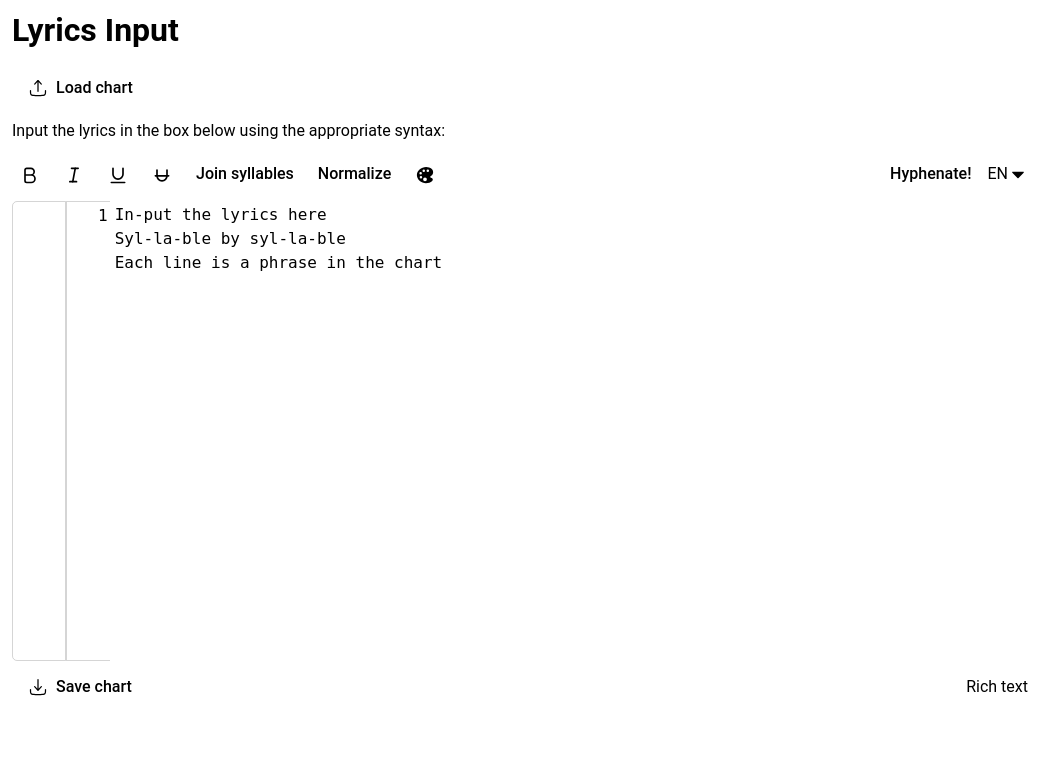
Scenario: LyricsInputView › detects the color of the selection and pre-fills the picker
Click the button "Load chart": (80, 88) [12,70,149,106]
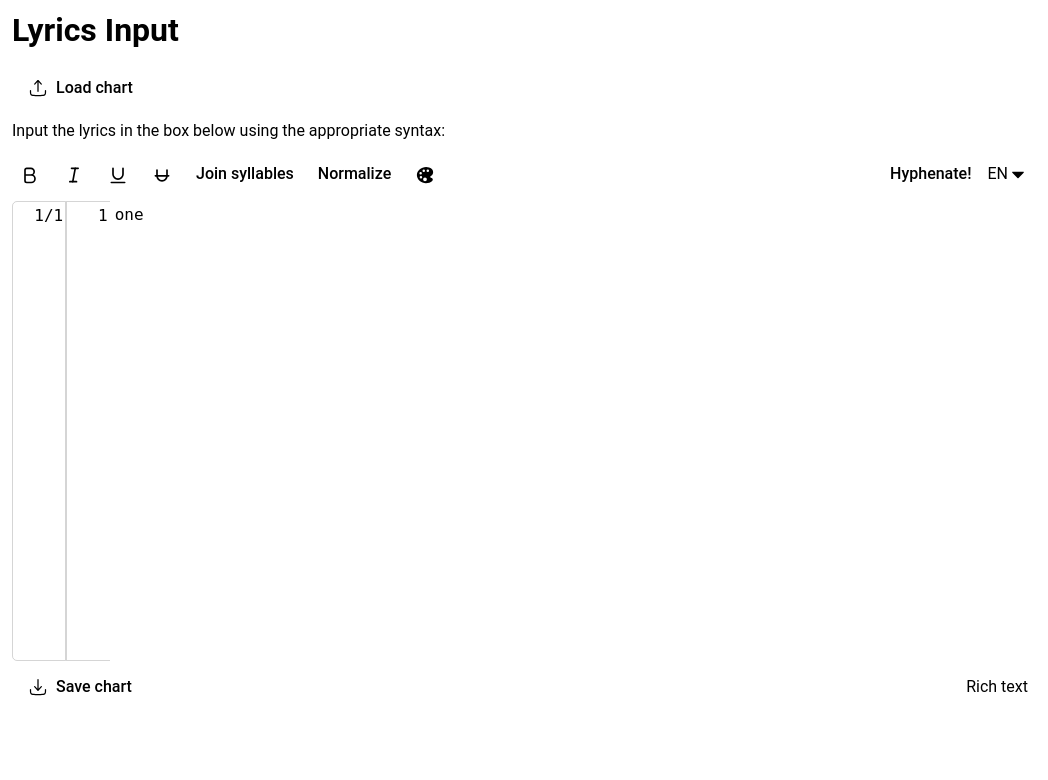
Replace the text in the text box with class "lyrics" with "<color=#8bd6d4>asd</color>": (573, 431) [110,201,1036,661]
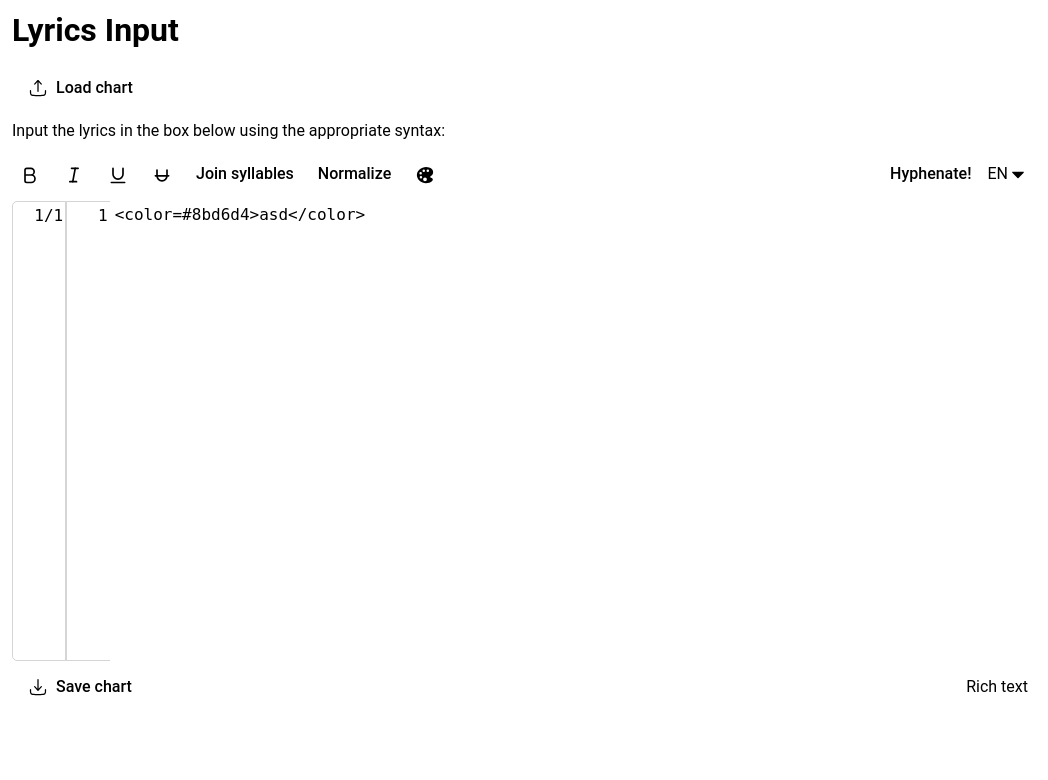
Click the button named "Apply a color": (425, 175) [407,157,443,193]
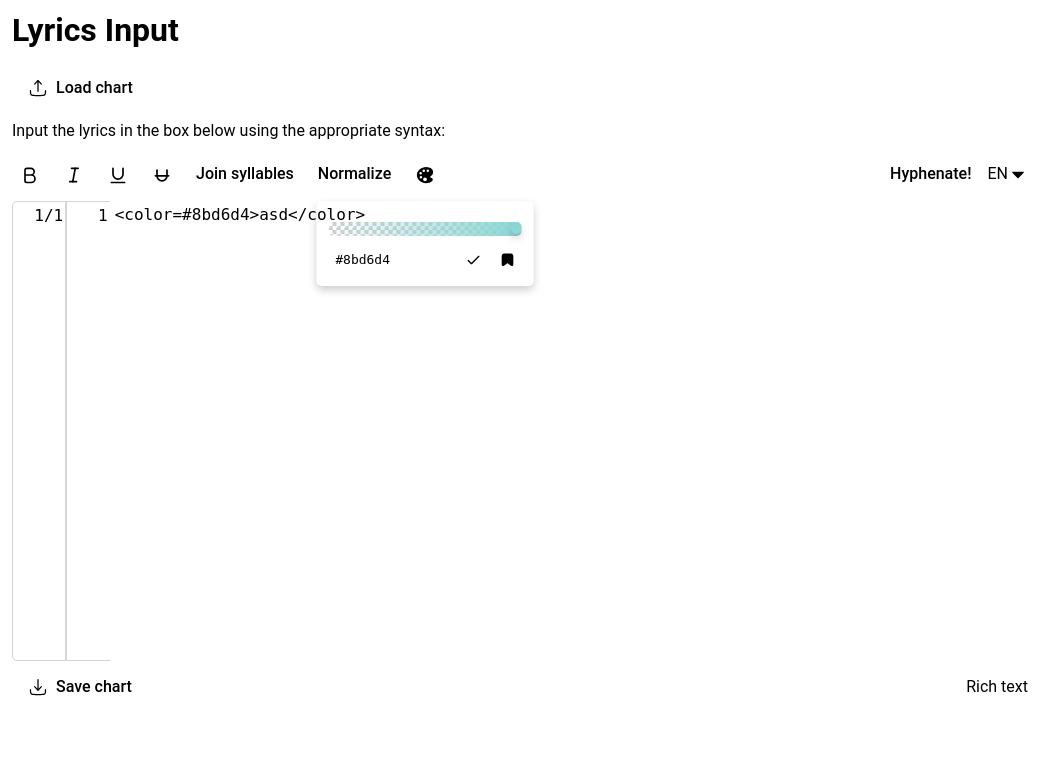
Expected: the field with class "hex-value" holds "#8bd6d4", [329,246,396,274]
